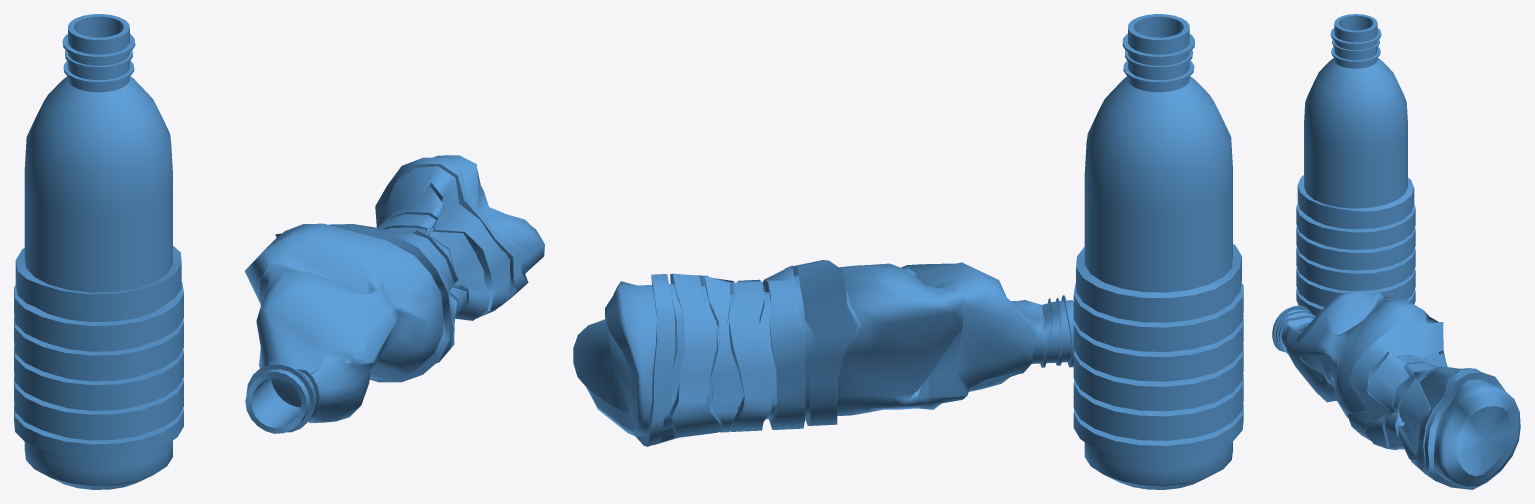
File: botellitas.fbx
3 renders of one model, left to right at view 1: azimuth 30°, elevation 25°; view 2: azimuth 150°, elevation 25°; view 3: azimuth 270°, elevation 25°, orthographic. The views are drawn at different scales.
Visible parts, largest first — view 1: pCylinder1, pCylinder2; view 2: pCylinder2, pCylinder1; view 3: pCylinder2, pCylinder1.
Part boxes in pixels (box(x1,y1,x2,y2)): pCylinder1: box(14, 14, 183, 489); pCylinder2: box(244, 155, 544, 433); pCylinder2: box(573, 260, 1074, 446); pCylinder1: box(1073, 14, 1243, 489); pCylinder2: box(1272, 291, 1520, 489); pCylinder1: box(1296, 14, 1415, 315).
Bounding box in the file's own units: 6.78 × 5.04 × 3.58.
